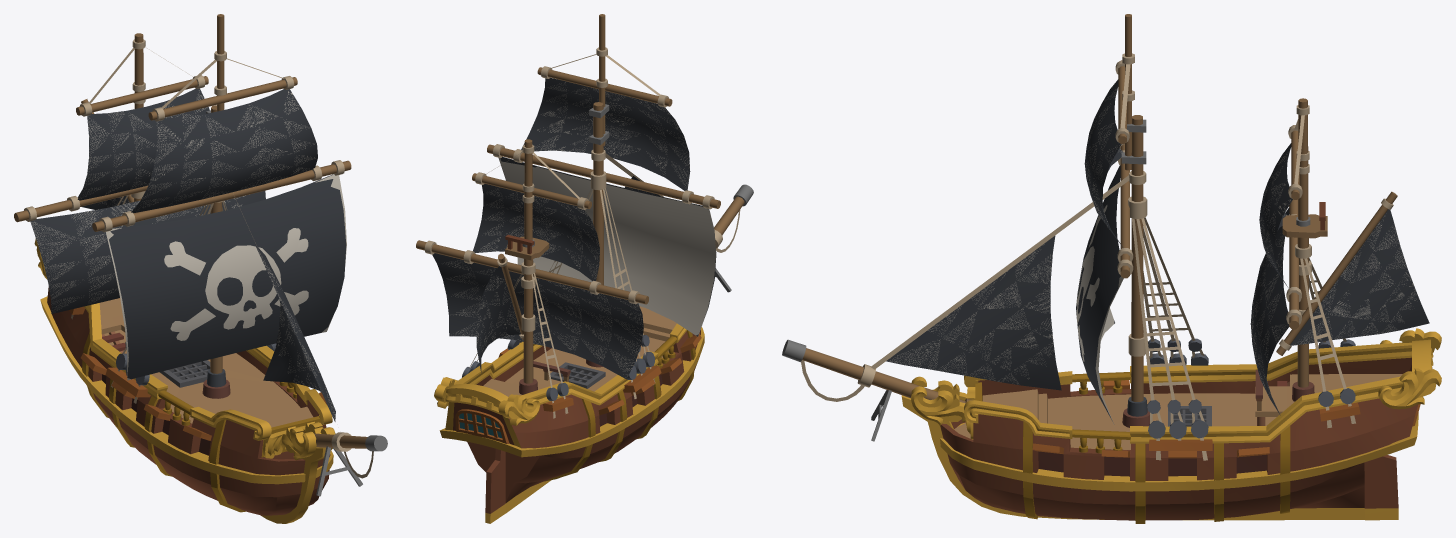
File: Brigantine.fbx
3 renders of one model, left to right at view 1: azimuth 30°, elevation 25°; view 2: azimuth 150°, elevation 25°; view 3: azimuth 270°, elevation 25°, orthographic. The views are drawn at different scales.
Parts seen in each view (by area): view 1: Sails_Black, Brigantine, Sails_White, Update_02, Update_01; view 2: Brigantine, Sails_Black, Sails_White, Update_02, Update_01, Rudder; view 3: Brigantine, Sails_Black, Sails_White, Update_01, Update_02, Rudder.
Boxes of the visible parts, bbox=[...] form: Sails_Black: bbox=[30, 88, 346, 421]; Brigantine: bbox=[14, 14, 387, 523]; Sails_White: bbox=[31, 90, 346, 417]; Update_02: bbox=[82, 332, 245, 512]; Update_01: bbox=[34, 238, 335, 460]; Brigantine: bbox=[416, 14, 753, 513]; Sails_Black: bbox=[432, 77, 716, 379]; Sails_White: bbox=[443, 82, 716, 377]; Update_02: bbox=[544, 330, 695, 481]; Update_01: bbox=[434, 377, 540, 425]; Rudder: bbox=[485, 449, 505, 523]; Brigantine: bbox=[782, 14, 1433, 520]; Sails_Black: bbox=[886, 79, 1429, 421]; Sails_White: bbox=[889, 84, 1416, 423]; Update_01: bbox=[911, 328, 1441, 425]; Update_02: bbox=[1023, 421, 1290, 523]; Rudder: bbox=[1364, 455, 1398, 520].
Size of the model in its own units: 781 by 1378 by 1638.
